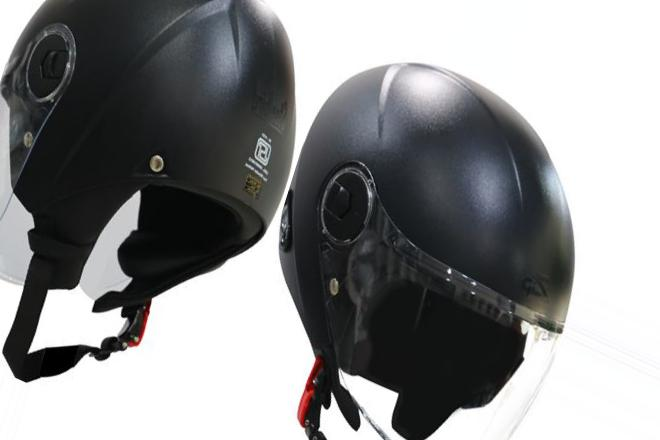helmet: (292, 42, 615, 440)
